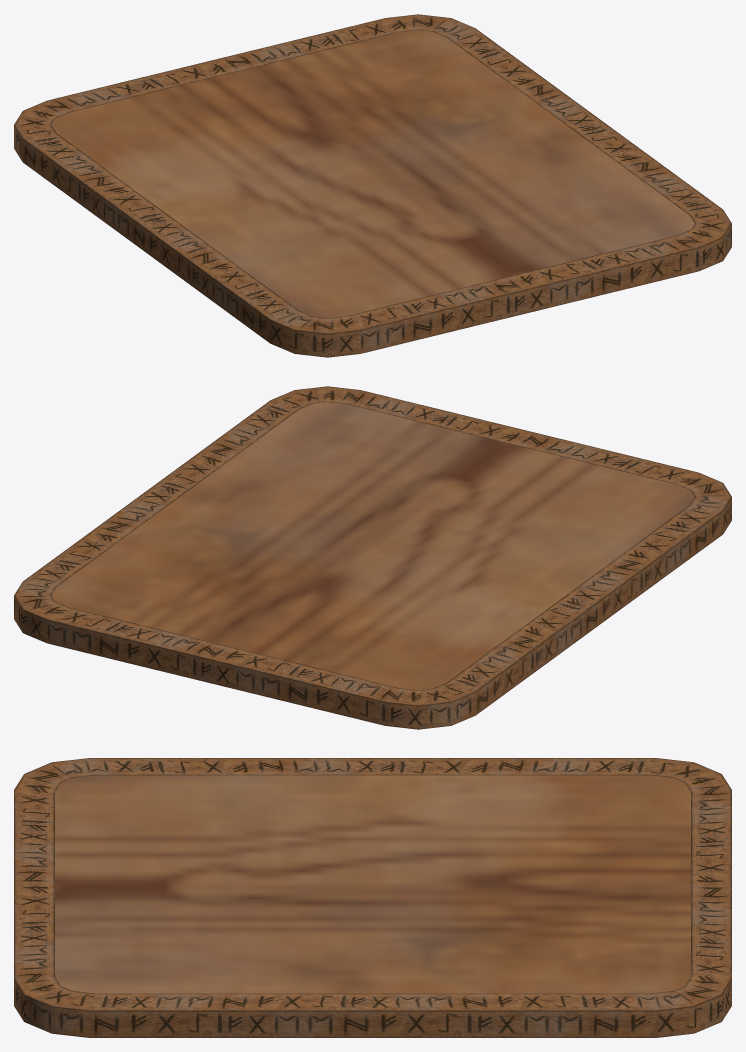
File: tray.glb
The picture shows the model from 3 angles, top to bottom: view 1: azimuth 30°, elevation 25°; view 2: azimuth 150°, elevation 25°; view 3: azimuth 270°, elevation 25°; orthographic projection. The views are drawn at different scales.
Parts seen in each view (by area): view 1: Object_20; view 2: Object_20; view 3: Object_20.
Part boxes in pixels (bbox=[...]): Object_20: bbox=[14, 14, 731, 357]; Object_20: bbox=[14, 386, 731, 729]; Object_20: bbox=[14, 758, 731, 1037].
Size of the model in its own units: 0.3579 by 0.0179 by 0.4295.
Materials: 1 (1 with a texture image).
